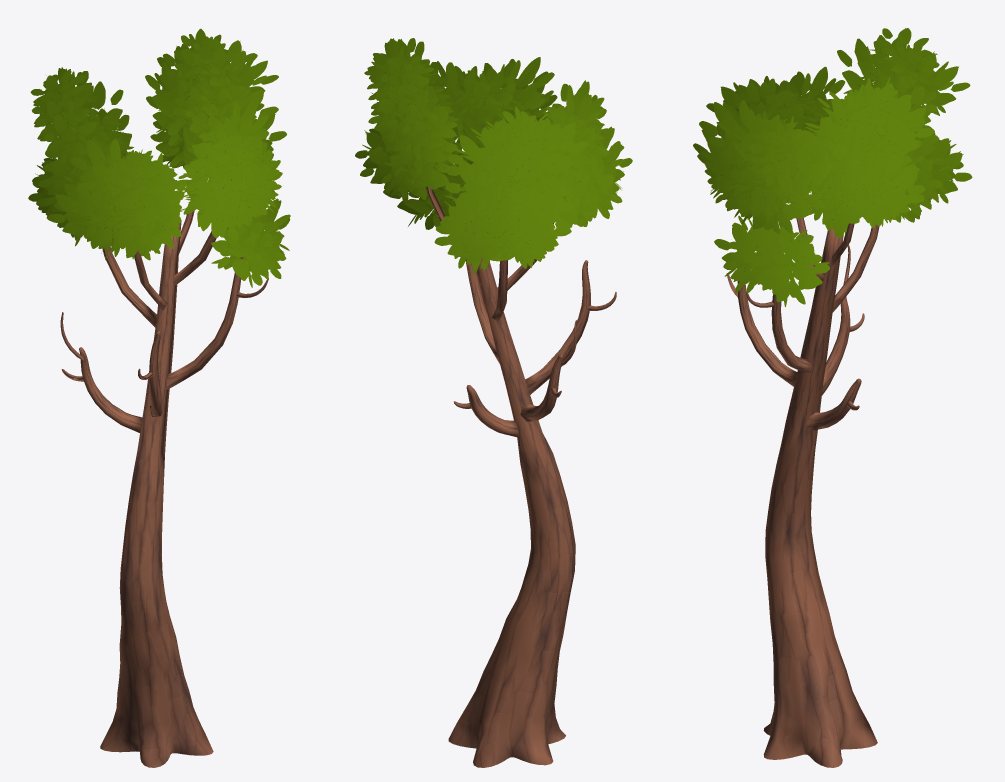
Rendered from CommonTree_4.gltf.
The picture shows the model from 3 angles, left to right: view 1: azimuth 30°, elevation 25°; view 2: azimuth 150°, elevation 25°; view 3: azimuth 270°, elevation 25°; orthographic projection. The views are drawn at different scales.
Parts seen in each view (by area): view 1: CommonTree_4; view 2: CommonTree_4; view 3: CommonTree_4.
Part boxes in pixels (box(x1,y1,x2,y2)): CommonTree_4: box(28, 28, 290, 767); CommonTree_4: box(355, 38, 632, 767); CommonTree_4: box(693, 28, 972, 767).
Size of the model in its own units: 3.83 by 9.44 by 3.76.
Materials: 2 (2 with a texture image).
